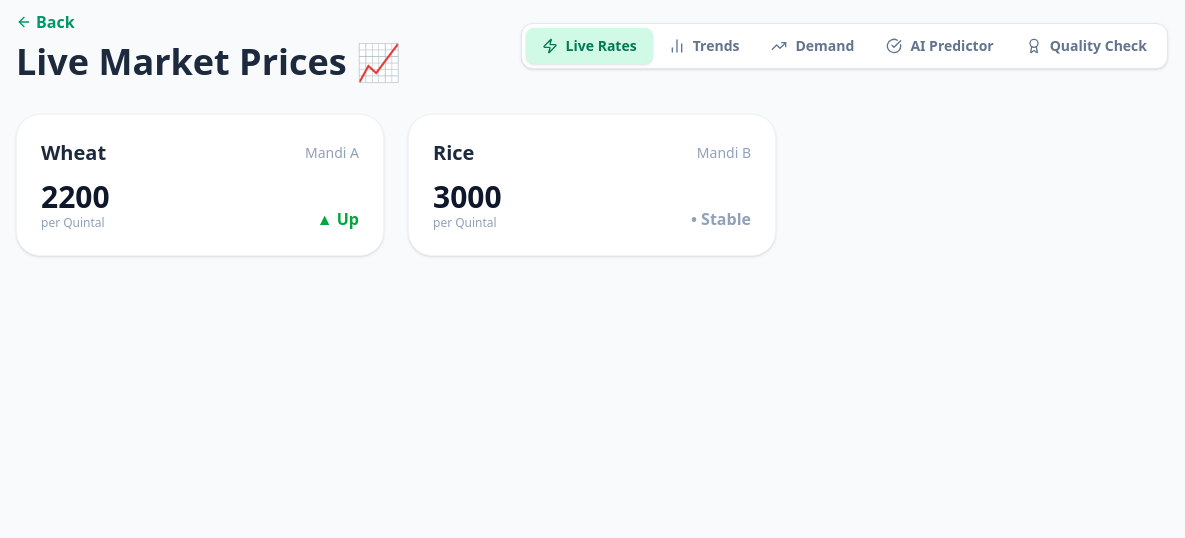
Test: MarketPrices Component › navigates to Demand tab and displays forecast
The image size is (1185, 538).
Click the button "Demand": (813, 46) x1=756 y1=28 x2=870 y2=64
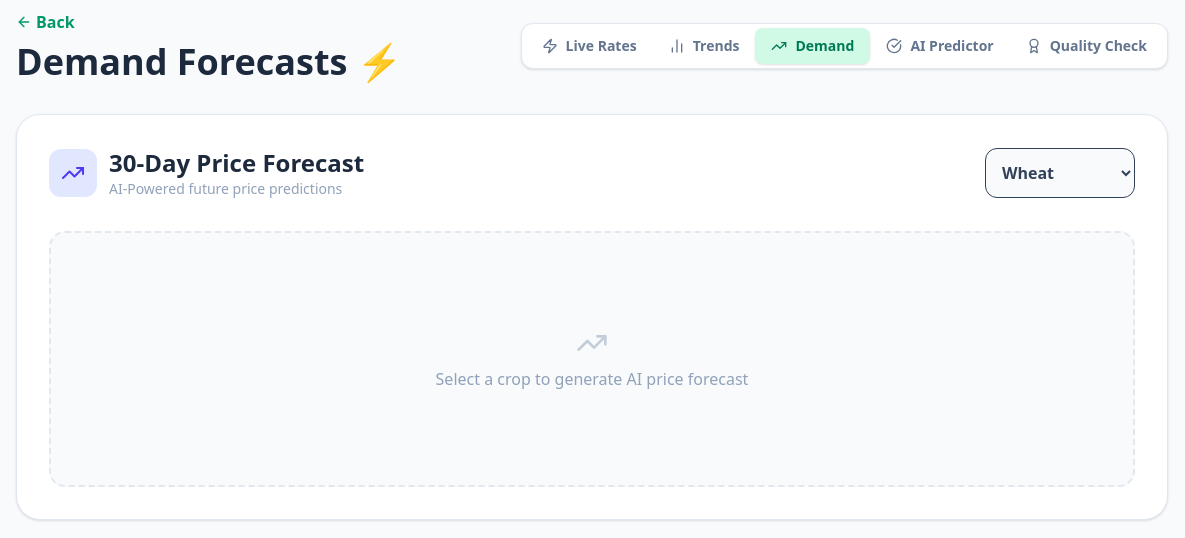
Expected: the heading "Demand Forecasts ⚡" is shown, x1=16 y1=42 x2=402 y2=82
Expected: the heading "30-Day Price Forecast" is shown, x1=109 y1=147 x2=364 y2=179
